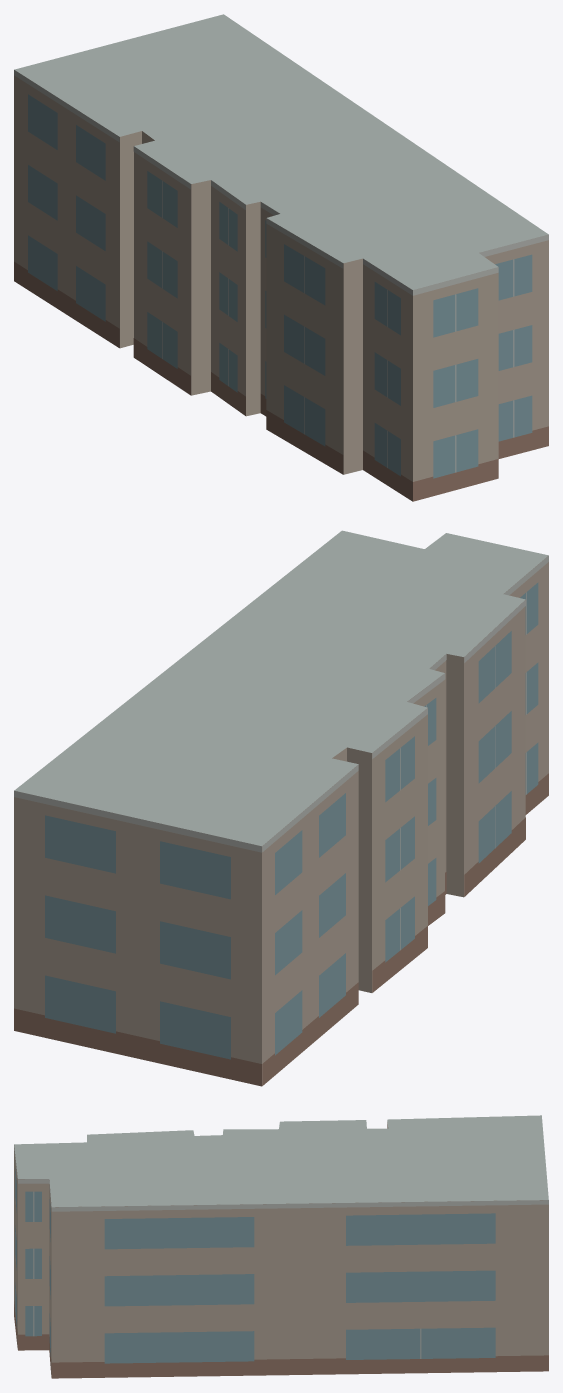
Rendered from survey-upis-32670289.glb.
3 renders of one model, top to bottom at view 1: azimuth 30°, elevation 25°; view 2: azimuth 150°, elevation 25°; view 3: azimuth 270°, elevation 25°, orthographic. The views are drawn at different scales.
Visible parts, largest first — view 1: survey-upis-32670289.tmp; view 2: survey-upis-32670289.tmp; view 3: survey-upis-32670289.tmp.
Boxes of the visible parts, x1=… form: survey-upis-32670289.tmp: x1=14, y1=14, x2=548, y2=501; survey-upis-32670289.tmp: x1=14, y1=530, x2=548, y2=1086; survey-upis-32670289.tmp: x1=14, y1=1115, x2=548, y2=1378.
Bounding box in the file's own units: 10.52 × 9.15 × 25.89.
